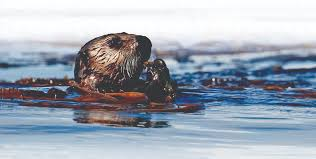otter: (69, 12, 172, 100)
